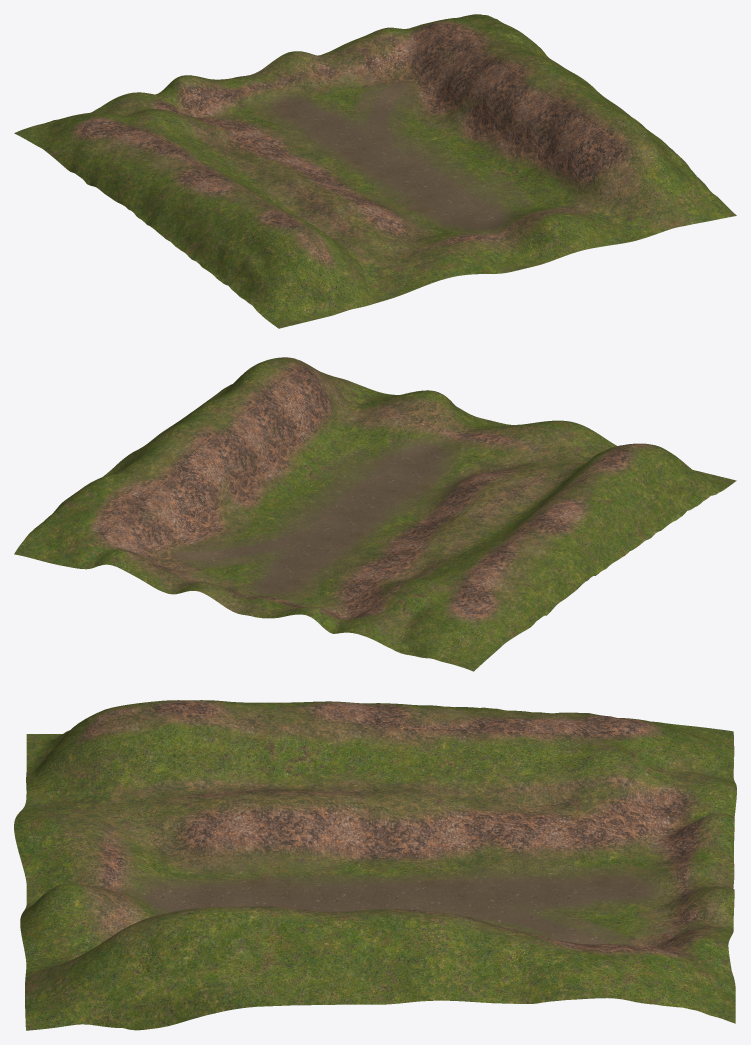
The model's file is terrien.fbx.
The picture shows the model from 3 angles, top to bottom: view 1: azimuth 30°, elevation 25°; view 2: azimuth 150°, elevation 25°; view 3: azimuth 270°, elevation 25°; orthographic projection. The views are drawn at different scales.
Visible parts, largest first — view 1: Plane; view 2: Plane; view 3: Plane.
Part boxes in pixels (x1,y1,x2,y2): Plane: [14, 14, 736, 328]; Plane: [14, 357, 736, 671]; Plane: [14, 700, 736, 1030].
Bounding box in the file's own units: 16755 × 2240 × 16971.
1 material, 1 textured.
